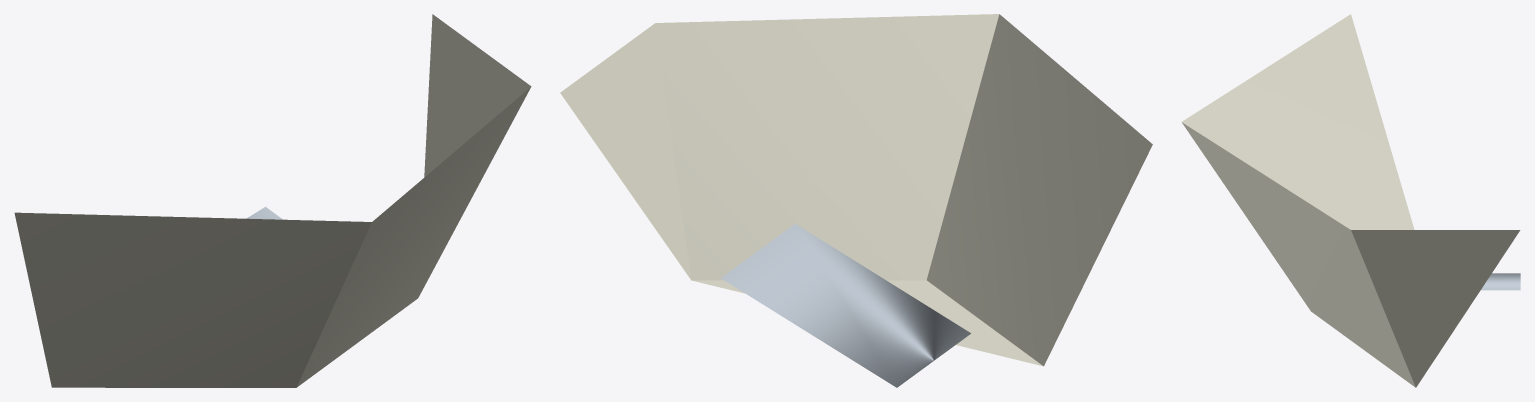
File: lampWall.glb
The picture shows the model from 3 angles, left to right: view 1: azimuth 30°, elevation 25°; view 2: azimuth 150°, elevation 25°; view 3: azimuth 270°, elevation 25°; orthographic projection. The views are drawn at different scales.
Visible parts, largest first — view 1: lampWall(Clone); view 2: lampWall(Clone); view 3: lampWall(Clone).
Boxes of the visible parts, x1,y1,x2,y2 form: lampWall(Clone): [14, 14, 531, 387]; lampWall(Clone): [560, 14, 1152, 387]; lampWall(Clone): [1181, 14, 1520, 387].
Bounding box in the file's own units: 0.2266 × 0.0927 × 0.1504.
